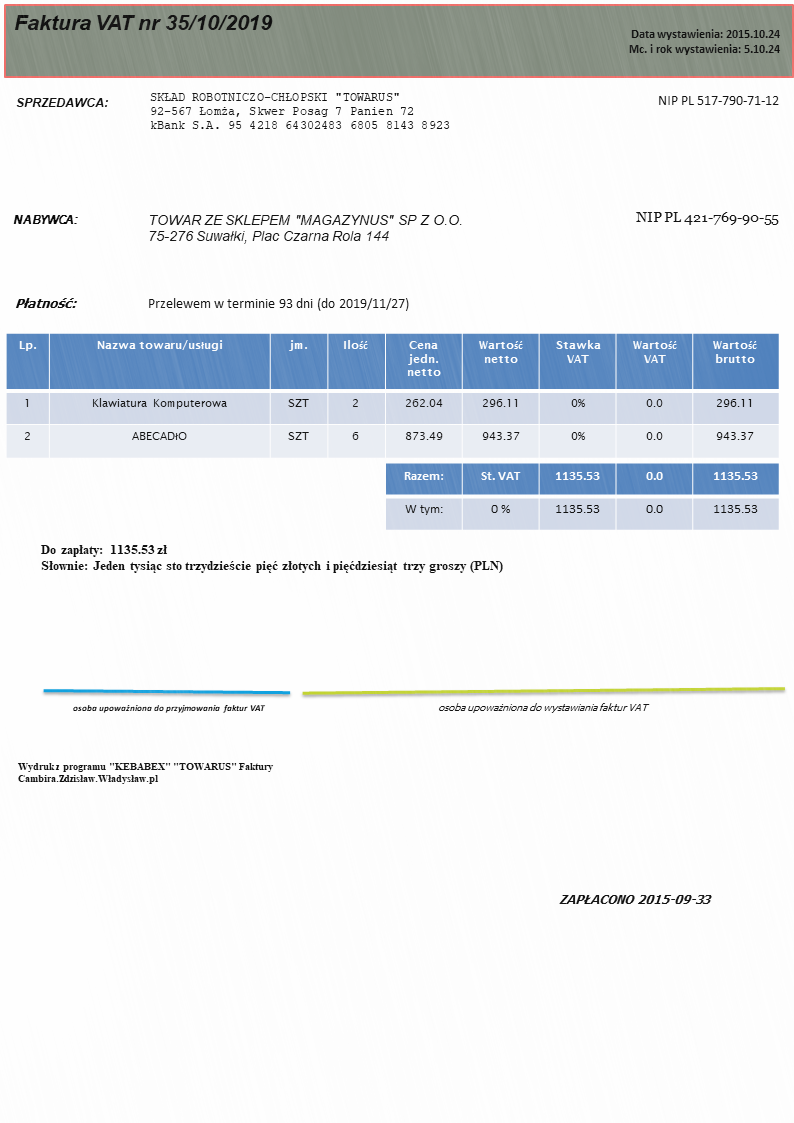Table: (5, 332, 780, 459), (384, 461, 781, 531)
TextBox: (37, 540, 507, 576), (147, 89, 451, 132), (146, 211, 468, 245), (14, 759, 277, 786), (12, 11, 275, 34), (626, 27, 783, 56), (146, 295, 409, 311), (436, 700, 653, 714), (634, 208, 781, 228), (557, 890, 713, 907), (70, 702, 267, 714), (655, 91, 781, 109), (14, 94, 110, 111), (11, 211, 78, 228), (14, 295, 79, 311)
